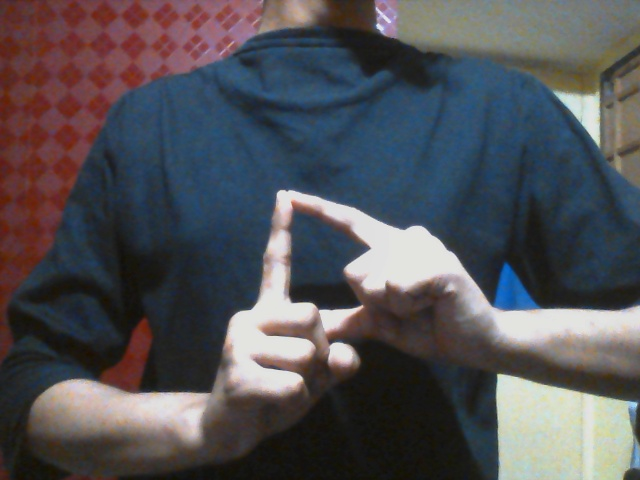D: (213, 188, 471, 454)
